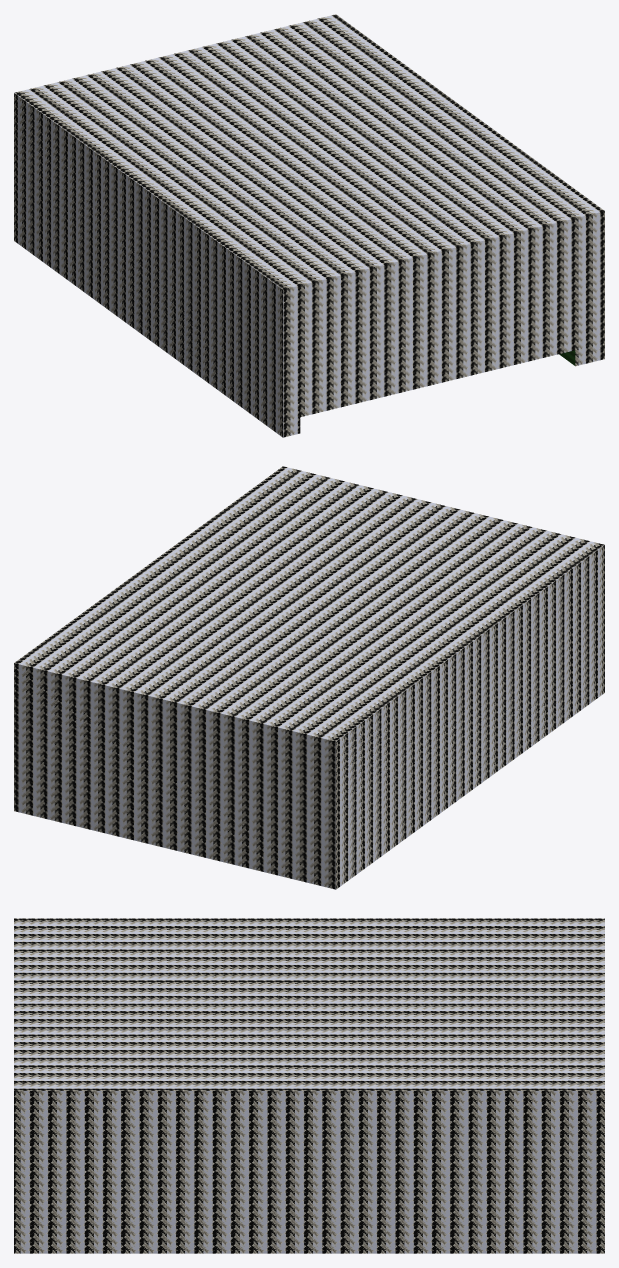
Rendered from Mansion_brush.glb.
3 renders of one model, top to bottom at view 1: azimuth 30°, elevation 25°; view 2: azimuth 150°, elevation 25°; view 3: azimuth 270°, elevation 25°, orthographic. The views are drawn at different scales.
Parts seen in each view (by area): view 1: Mansion; view 2: Mansion; view 3: Mansion.
Part boxes in pixels (left/top/right/bottom): Mansion: left=14, top=14, right=604, bottom=437; Mansion: left=14, top=466, right=604, bottom=889; Mansion: left=14, top=918, right=604, bottom=1253.
Size of the model in its own units: 5723 by 2514 by 8277.
Materials: 40 (40 with a texture image).
